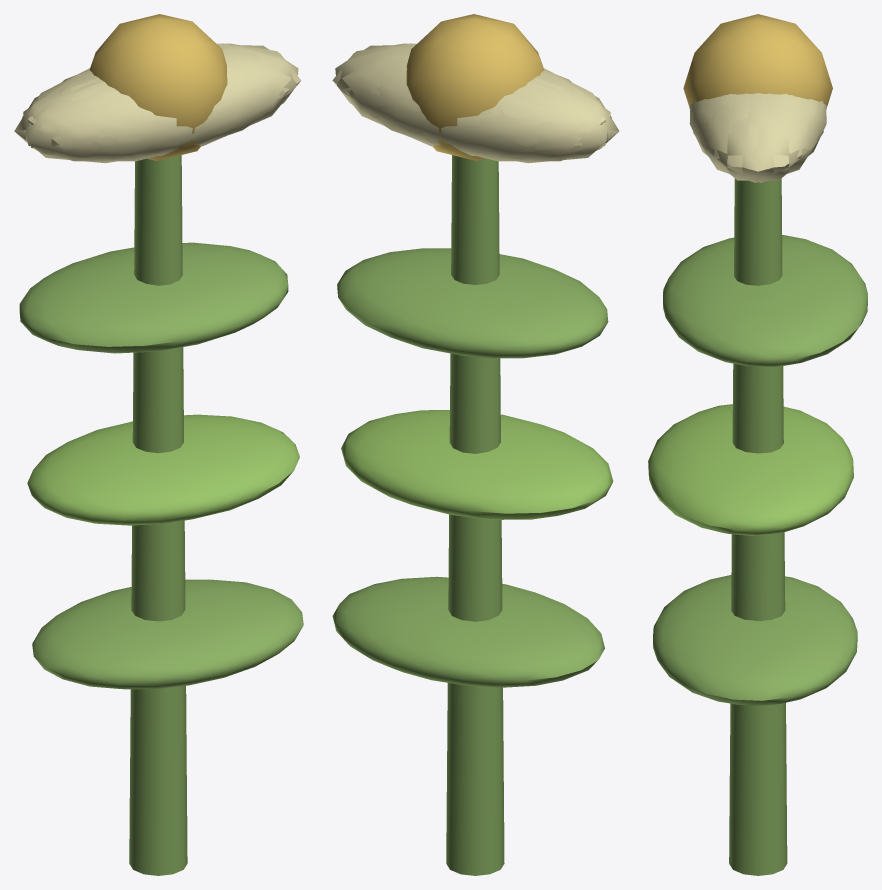
File: ipomoea-aquatica.glb
3 renders of one model, left to right at view 1: azimuth 30°, elevation 25°; view 2: azimuth 150°, elevation 25°; view 3: azimuth 270°, elevation 25°, orthographic.
Visible parts, largest first — view 1: stem, leaf1, leaf2, leaf0, center, petal6, petal2, petal1, petal5, petal7, petal0; view 2: stem, leaf2, leaf1, leaf0, center, petal3, petal7, petal8, petal4, petal2, petal0; view 3: stem, leaf2, leaf1, leaf0, center, petal0, petal5, petal4, petal8, petal1.
Part boxes in pixels (x1,y1,x2,y2): stem: (129, 155, 187, 875); leaf1: (27, 414, 299, 525); leaf2: (19, 242, 288, 353); leaf0: (32, 579, 303, 689); center: (90, 14, 227, 160); petal6: (30, 81, 214, 161); petal2: (23, 75, 164, 163); petal1: (95, 61, 284, 159); petal5: (154, 51, 300, 152); petal7: (14, 70, 107, 154); petal0: (221, 45, 298, 119); stem: (446, 155, 504, 875); leaf2: (337, 248, 608, 358); leaf1: (341, 410, 613, 519); leaf0: (332, 576, 604, 687); center: (406, 14, 543, 160); petal3: (419, 81, 602, 161); petal7: (469, 75, 610, 163); petal8: (349, 61, 538, 159); petal4: (332, 51, 479, 152); petal2: (526, 70, 619, 154); petal0: (335, 45, 412, 136); stem: (729, 178, 787, 875); leaf2: (663, 235, 867, 366); leaf1: (648, 404, 853, 535); leaf0: (653, 575, 857, 705); center: (683, 14, 832, 106); petal0: (703, 93, 813, 180); petal5: (692, 93, 769, 182); petal4: (747, 93, 823, 182); petal8: (780, 93, 826, 156); petal1: (689, 93, 736, 156).
Bounding box in the file's own units: 0.1541 × 0.4476 × 0.1058.
